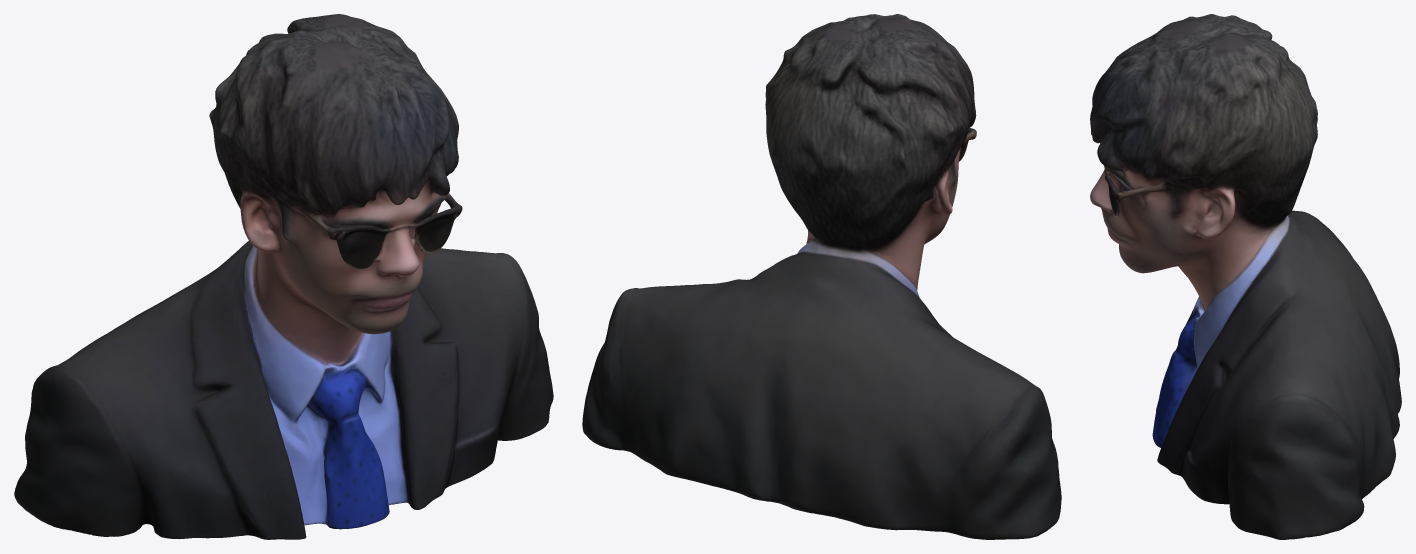
The model's file is trellis2-front.glb.
3 renders of one model, left to right at view 1: azimuth 30°, elevation 25°; view 2: azimuth 150°, elevation 25°; view 3: azimuth 270°, elevation 25°, orthographic. The views are drawn at different scales.
Parts seen in each view (by area): view 1: world; view 2: world; view 3: world.
Part boxes in pixels (x1,y1,x2,y2): world: (14, 14, 553, 539); world: (582, 14, 1061, 539); world: (1090, 14, 1401, 539).
Size of the model in its own units: 1 by 0.8698 by 0.6051.
Materials: 1 (1 with a texture image).
